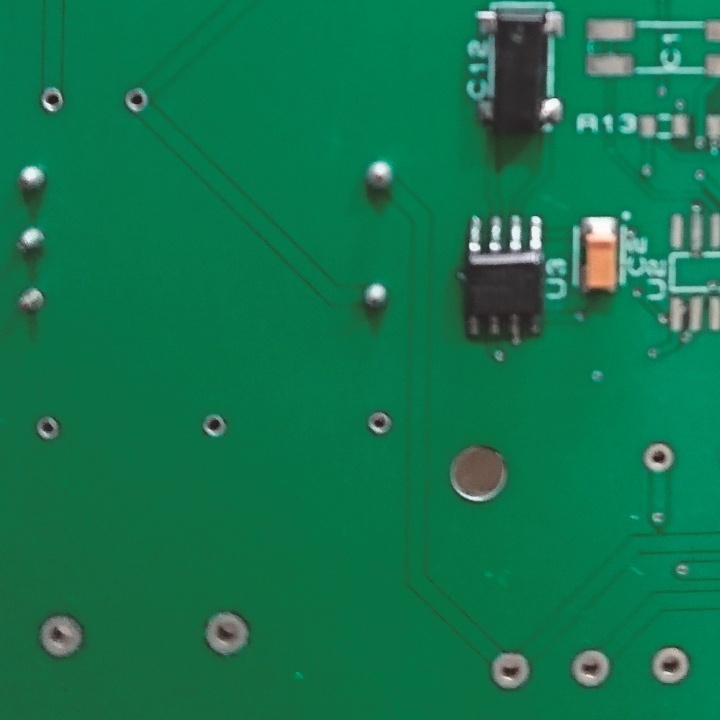F: (34, 613, 85, 660), (203, 611, 252, 659), (570, 645, 613, 688), (650, 644, 690, 686), (490, 648, 529, 690), (641, 440, 676, 475), (364, 407, 396, 438), (39, 86, 70, 117), (200, 409, 229, 442), (119, 87, 151, 115), (17, 285, 44, 317), (35, 414, 58, 443)
